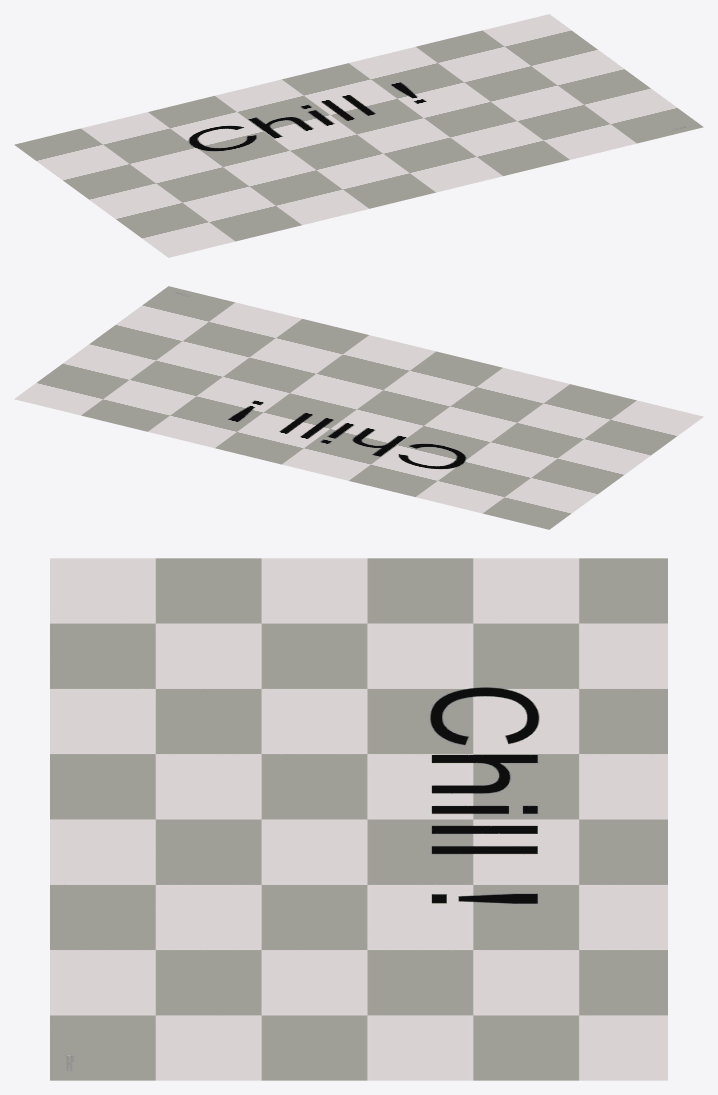
File: 7-chill_message.obj
3 renders of one model, top to bottom at view 1: azimuth 30°, elevation 25°; view 2: azimuth 150°, elevation 25°; view 3: azimuth 270°, elevation 25°, orthographic. The views are drawn at different scales.
Parts seen in each view (by area): view 1: 7-Chill Message; view 2: 7-Chill Message; view 3: 7-Chill Message.
Boxes of the visible parts, <box> form: 7-Chill Message: <box>14,14,703,257</box>; 7-Chill Message: <box>14,286,703,529</box>; 7-Chill Message: <box>50,558,667,1080</box>.
Size of the model in its own units: 2 by 4.97e-07 by 1.
Materials: 1 (1 with a texture image).
